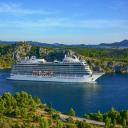cruises: (7, 55, 107, 87)
